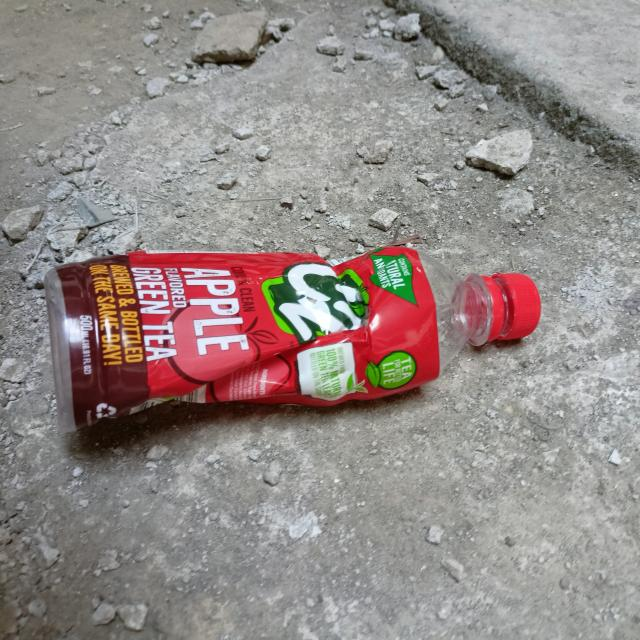Bottle: (44, 244, 541, 431), (637, 383, 640, 391)
